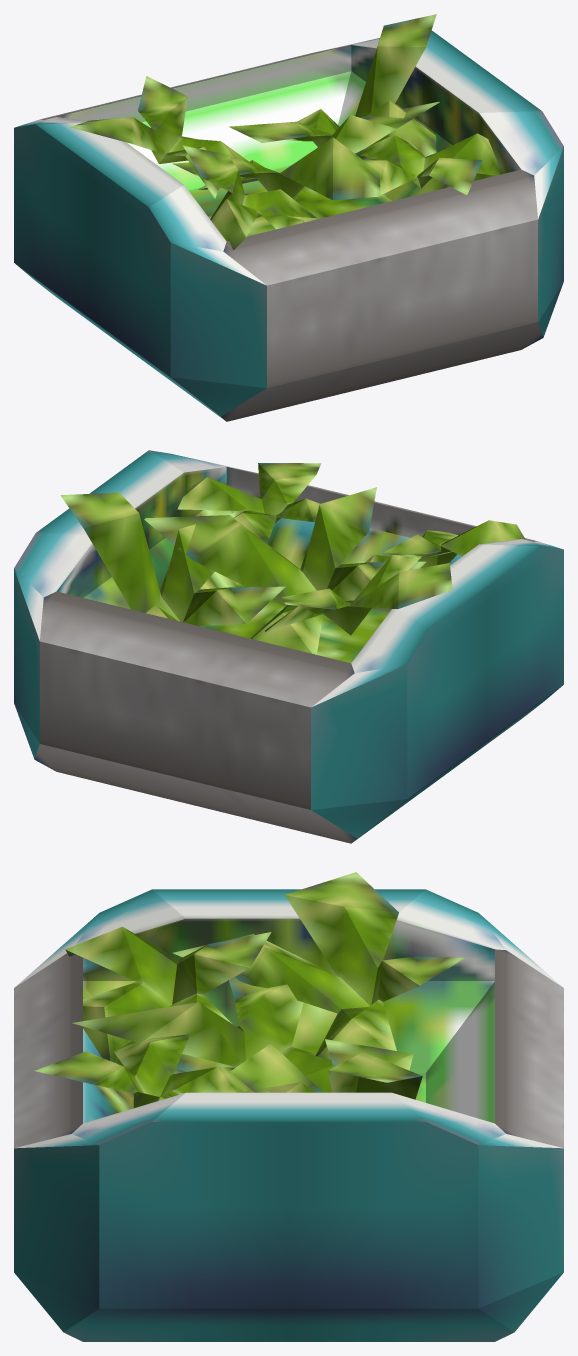
File: Poly_SF_Outside_B_Planter_01.obj
3 renders of one model, top to bottom at view 1: azimuth 30°, elevation 25°; view 2: azimuth 150°, elevation 25°; view 3: azimuth 270°, elevation 25°, orthographic. The views are drawn at different scales.
Parts seen in each view (by area): view 1: Cube.001, Cube.006, Cube.005, Cube.002, Cube.004; view 2: Cube.001, Cube.006, Cube.005, Cube.002, Cube.004; view 3: Cube.001, Cube.005, Cube.006, Cube.004, Cube.002.
Part boxes in pixels (<box>): Cube.001: <box>14,30,563,421</box>; Cube.006: <box>172,14,439,200</box>; Cube.005: <box>70,76,248,198</box>; Cube.002: <box>355,133,500,195</box>; Cube.004: <box>182,145,317,250</box>; Cube.001: <box>14,450,563,843</box>; Cube.006: <box>60,487,426,654</box>; Cube.005: <box>264,550,456,635</box>; Cube.002: <box>177,463,321,543</box>; Cube.004: <box>365,520,525,568</box>; Cube.001: <box>14,889,563,1341</box>; Cube.005: <box>172,872,464,1059</box>; Cube.006: <box>72,977,422,1099</box>; Cube.004: <box>65,926,271,1071</box>; Cube.002: <box>34,1034,251,1108</box>.
Size of the model in its own units: 0.534 by 0.3035 by 0.534.
1 material, 1 textured.
